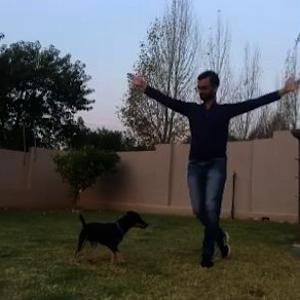takeoff: (120, 55, 296, 269)
